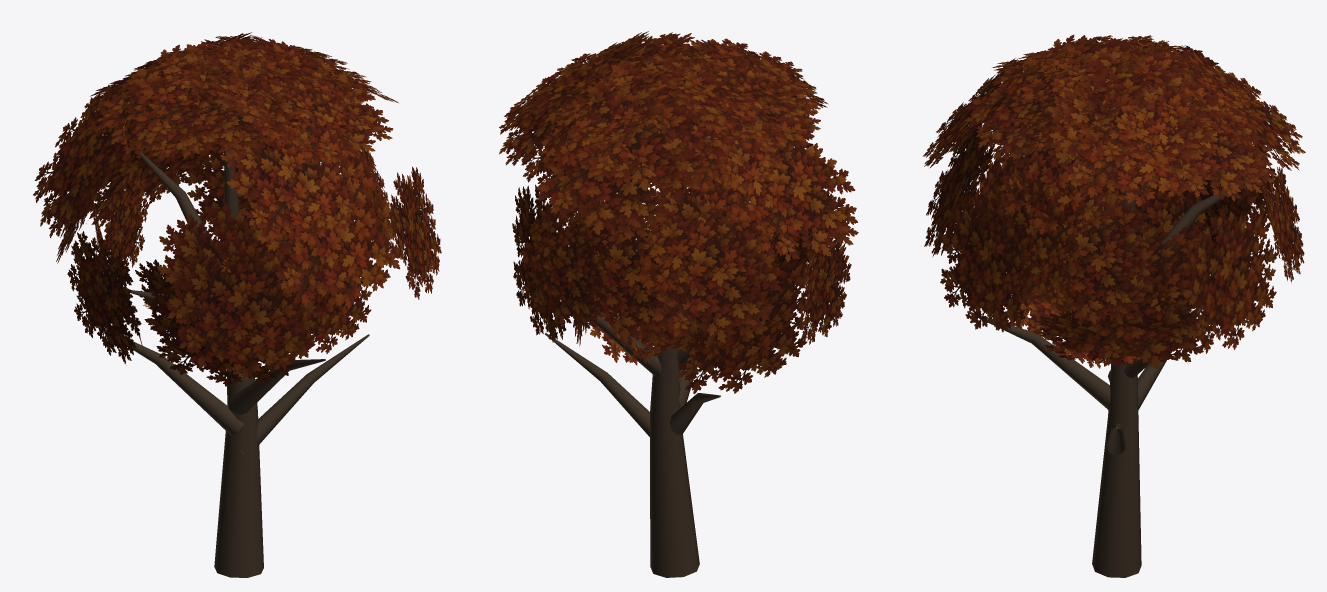
3 renders of one model, left to right at view 1: azimuth 30°, elevation 25°; view 2: azimuth 150°, elevation 25°; view 3: azimuth 270°, elevation 25°, orthographic.
Parts seen in each view (by area): view 1: Bark; view 2: Bark; view 3: Bark.
Boxes of the visible parts, x1,y1,x2,y2 form: Bark: (33, 32, 441, 577); Bark: (499, 31, 858, 577); Bark: (923, 34, 1305, 577).
Bounding box in the file's own units: 2 × 2.74 × 1.93.
3 materials, 1 textured.
